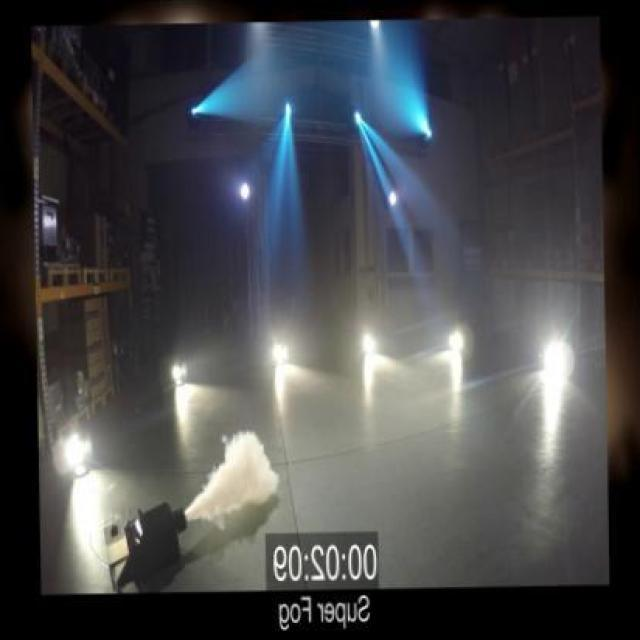fire: (193, 426, 282, 526)
